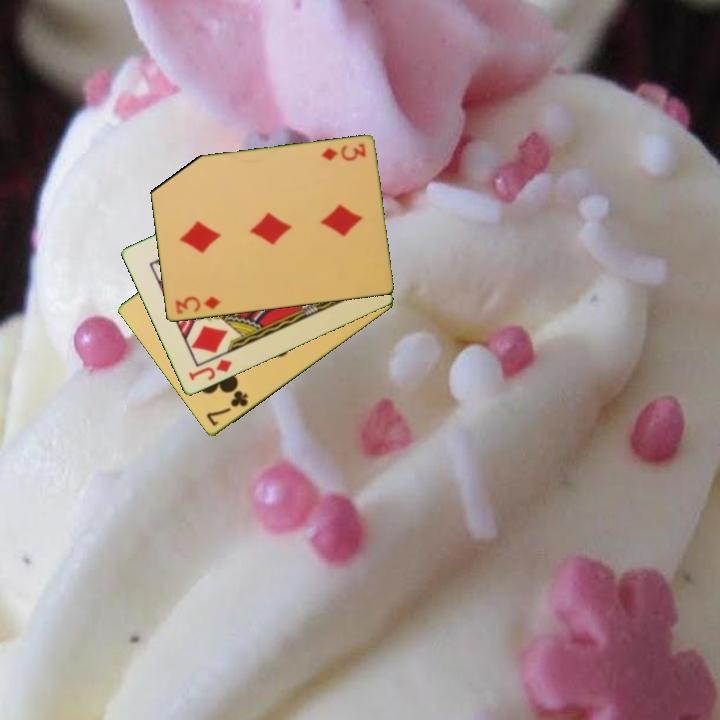3d: (172, 293, 223, 317), (317, 140, 368, 164)
7c: (202, 387, 251, 430)
Jd: (185, 356, 235, 384)
